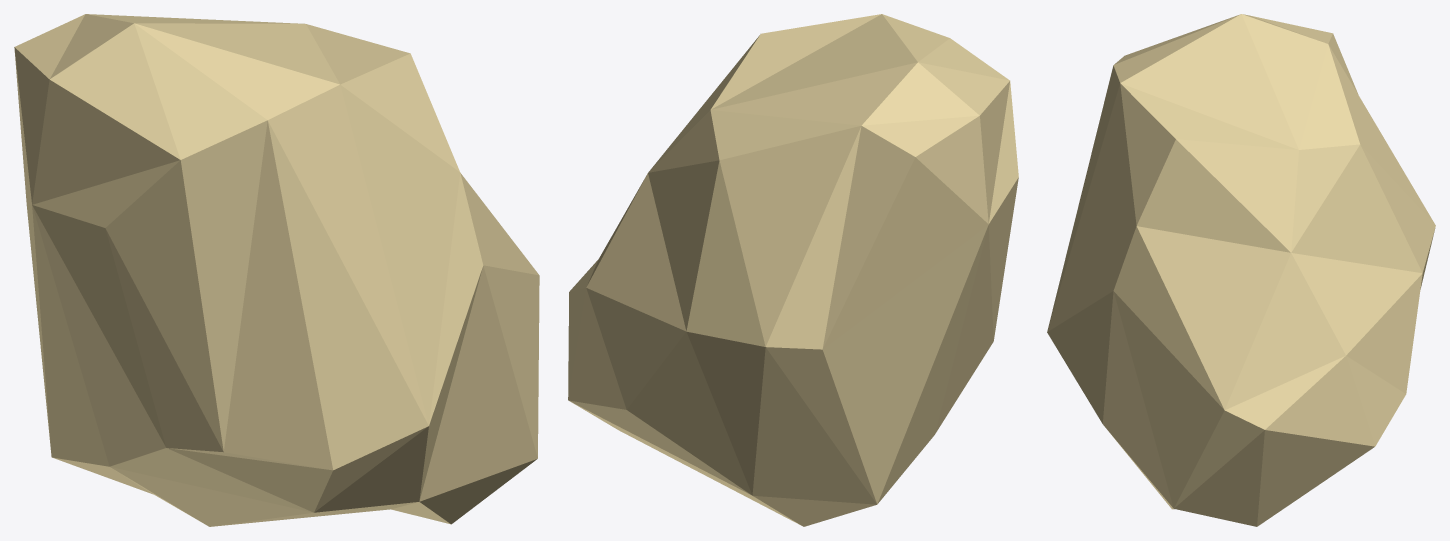
The model's file is Rock (9).fbx.
3 views of the same model, side by side, from view 1: azimuth 30°, elevation 25°; view 2: azimuth 150°, elevation 25°; view 3: azimuth 270°, elevation 25° (orthographic). The views are drawn at different scales.
Visible parts, largest first — view 1: Asteroid8; view 2: Asteroid8; view 3: Asteroid8.
Part boxes in pixels (x1,y1,x2,y2): Asteroid8: [14, 14, 539, 526]; Asteroid8: [568, 14, 1018, 526]; Asteroid8: [1047, 14, 1435, 526].
Size of the model in its own units: 149 by 155 by 136.
